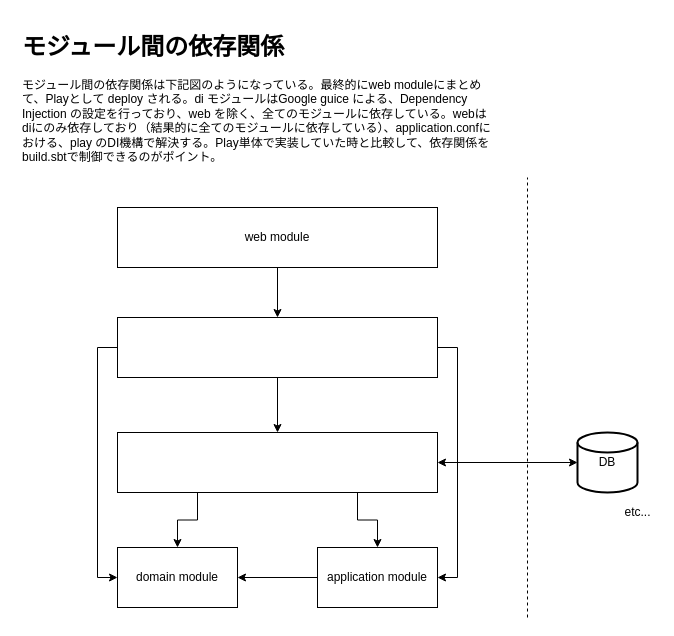
Image size: 674x636. Some labels were removed from this diagram. Here are the shapes that lost their labels. From the top down, the box of each, then its label:
(116, 316, 438, 378): di module
(116, 432, 438, 492): infrastructure module
